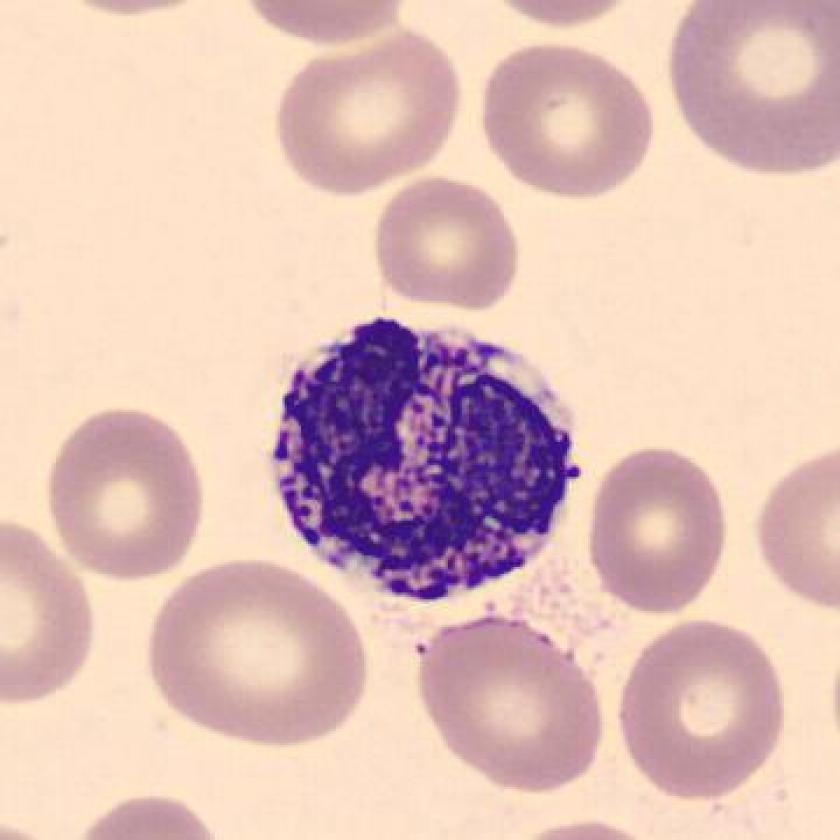basophil: (260, 316, 584, 619)
